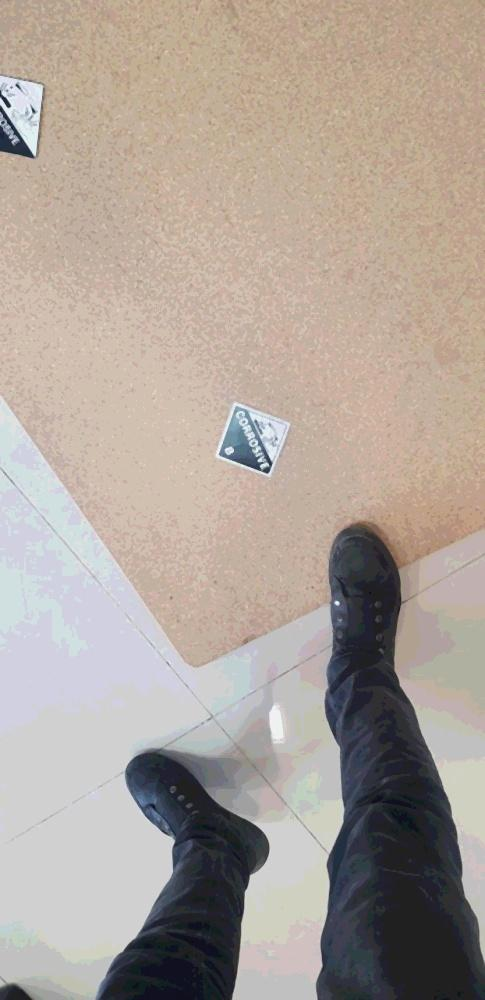corrosive: (216, 403, 290, 475), (1, 70, 52, 163)
